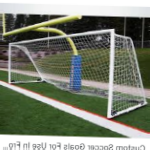goals: (6, 27, 150, 122)
